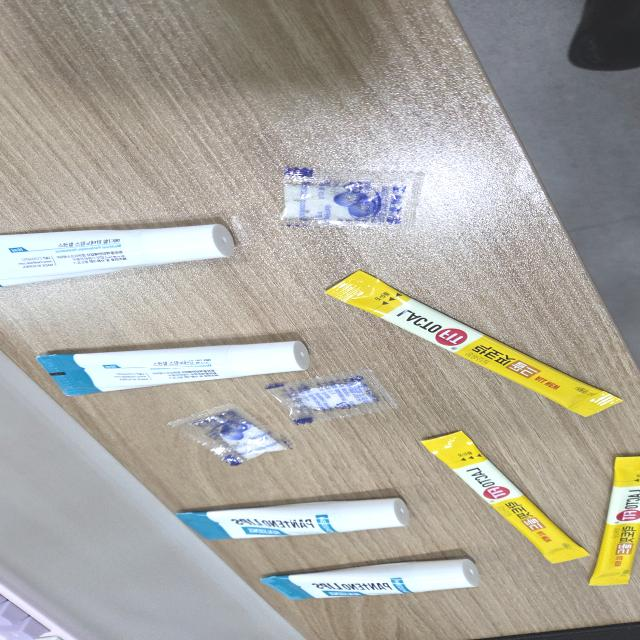lacto: (325, 262, 626, 420), (421, 424, 589, 568), (584, 448, 640, 590)
lib: (38, 334, 315, 400), (0, 219, 240, 290), (183, 489, 413, 542), (258, 557, 487, 605)
salt: (274, 161, 430, 234), (164, 403, 292, 469), (265, 370, 396, 425)
